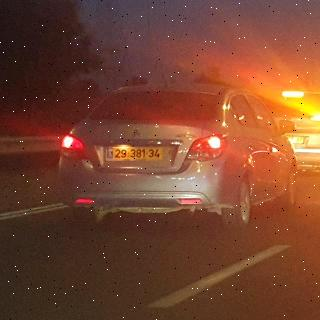LicensePlate: (115, 148, 162, 159)
